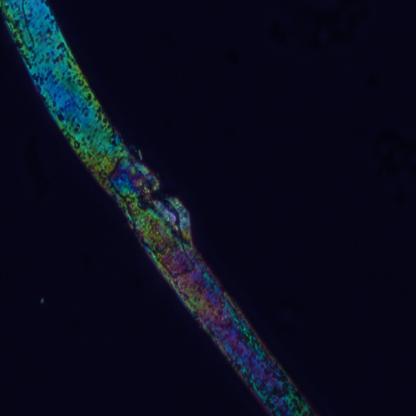Microfibre: (0, 0, 314, 416)
